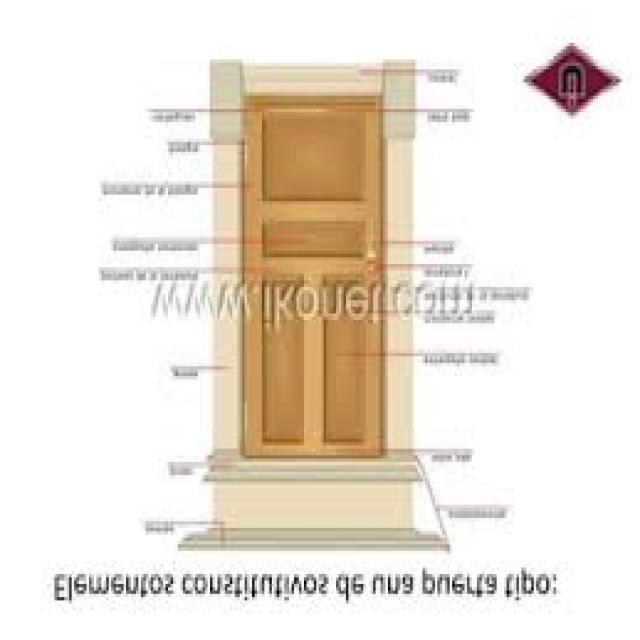door: (241, 78, 387, 460)
